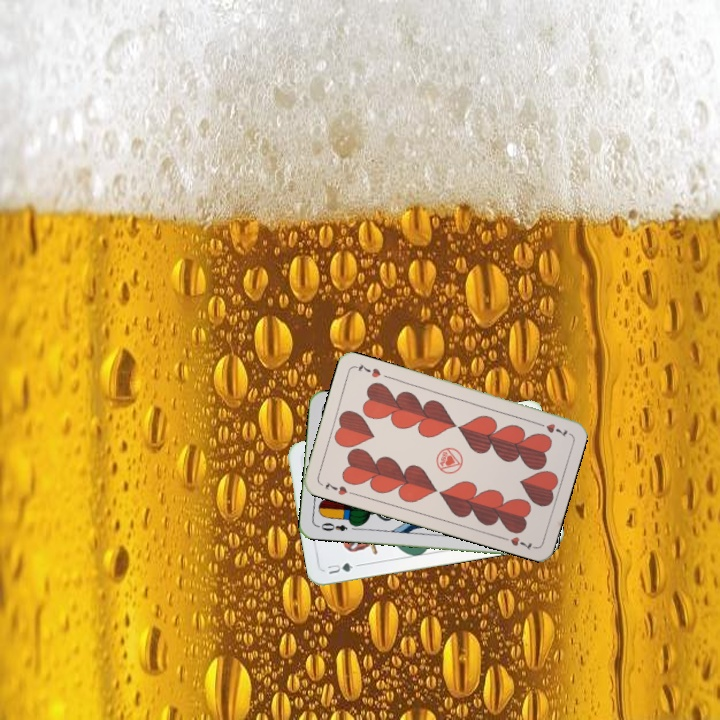EO: (314, 518, 350, 534)
GU: (323, 559, 355, 577)
H7: (532, 418, 570, 439), (321, 478, 357, 498)
